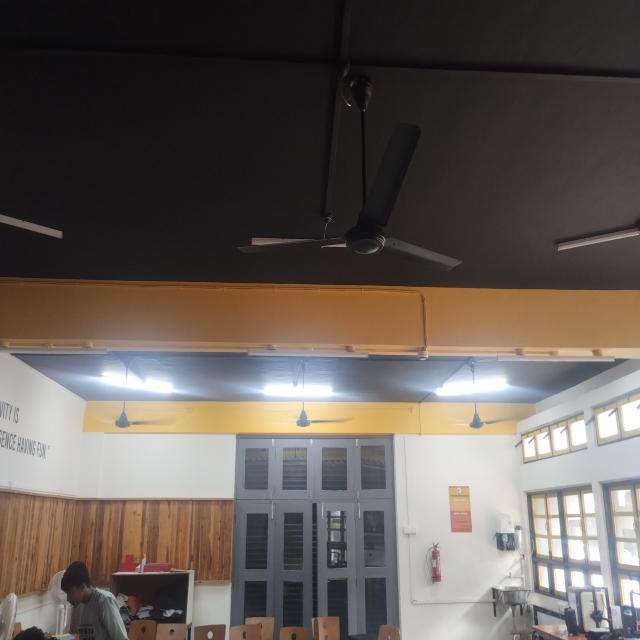tubelight_on: (432, 370, 517, 403), (97, 370, 176, 396), (258, 379, 345, 402)
